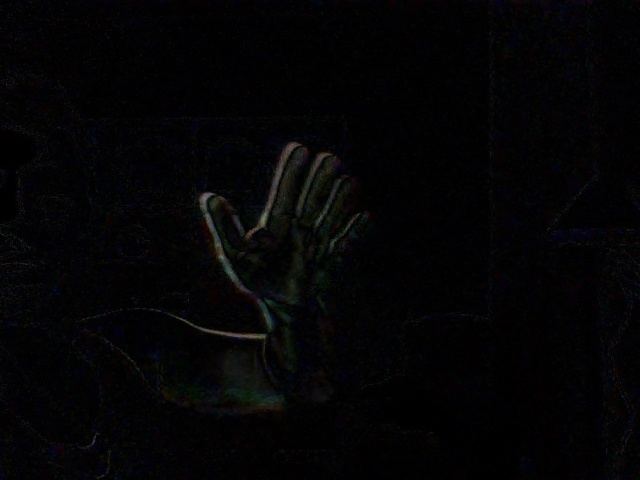hand_pa: (183, 124, 378, 310)
